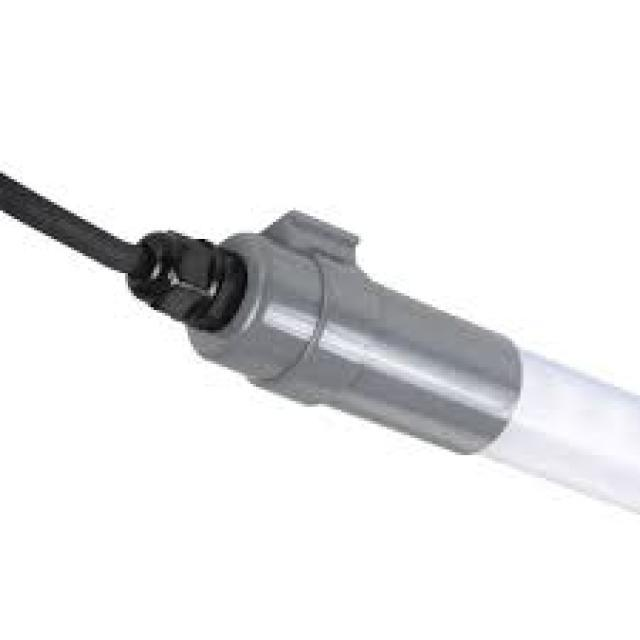tubelight_off: (171, 189, 640, 530)
